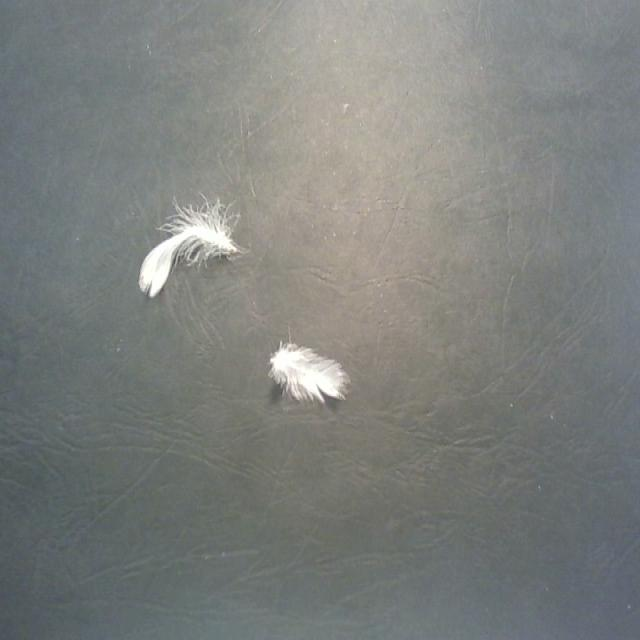feather: (136, 196, 248, 303), (266, 340, 350, 407)
